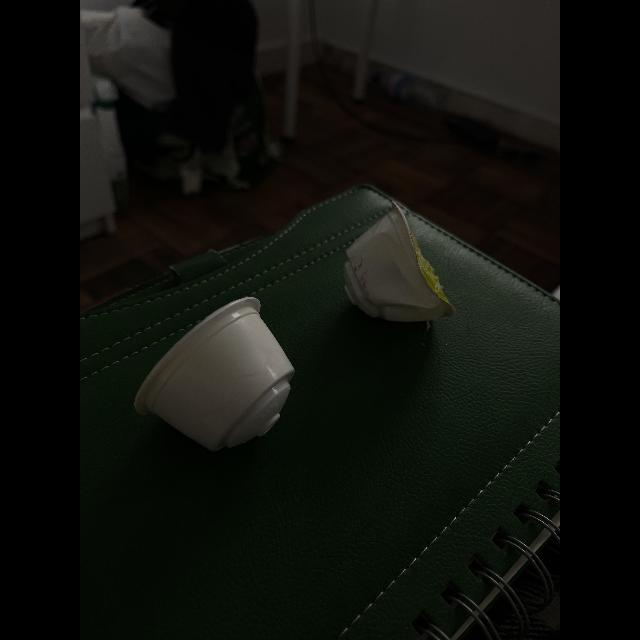damaged_capsule: (330, 206, 466, 336)
intact_capsule: (134, 294, 306, 458)
